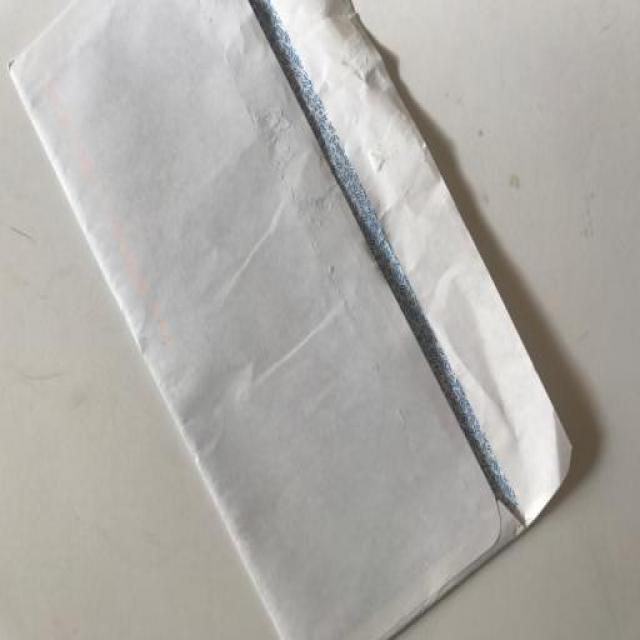paper: (5, 2, 607, 624)
